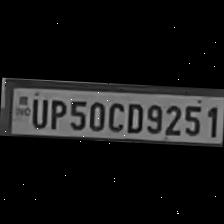0: (86, 97, 106, 130)
1: (201, 102, 220, 138)
2: (161, 101, 181, 135)
5: (65, 96, 87, 130), (180, 101, 202, 135)
9: (142, 100, 164, 134)
C: (105, 98, 125, 132)
D: (122, 99, 144, 133)
P: (46, 95, 66, 129)
U: (26, 94, 48, 128)
